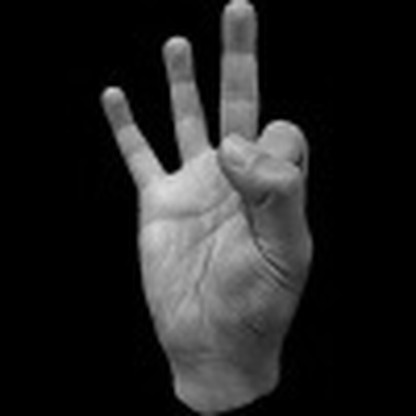f: (94, 1, 324, 370)
